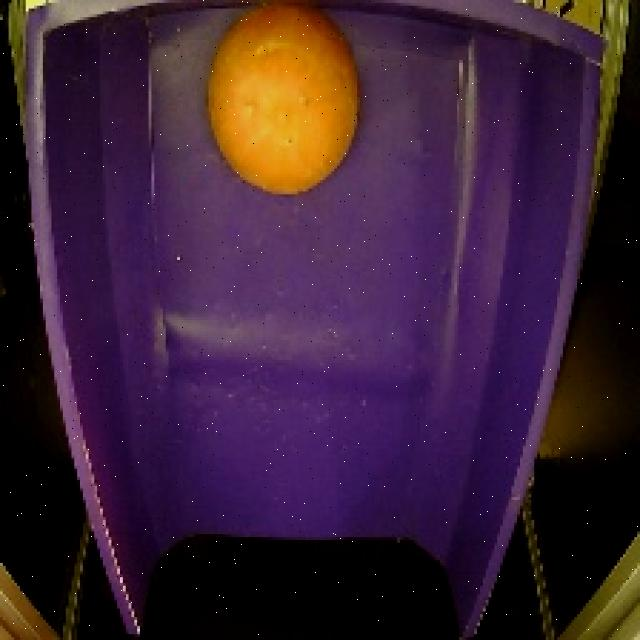carrots: (203, 2, 366, 204)
